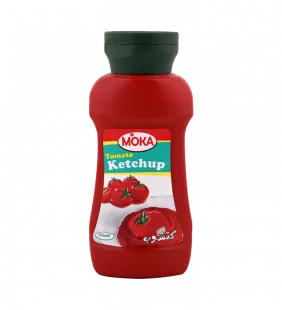MOKA: (83, 20, 204, 284)
